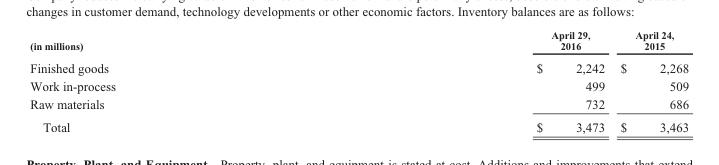table: (29, 29, 688, 134)
table column: (29, 29, 325, 134), (325, 29, 611, 134), (611, 29, 688, 134)
table column header: (29, 29, 688, 55)
table row: (29, 29, 688, 55), (29, 55, 688, 76), (29, 94, 688, 115), (29, 115, 688, 134), (29, 76, 688, 94)
